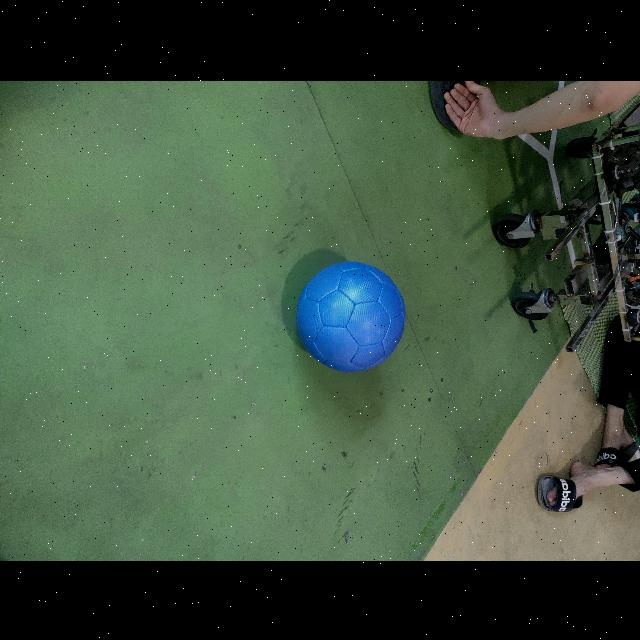B: (293, 259, 405, 373)
